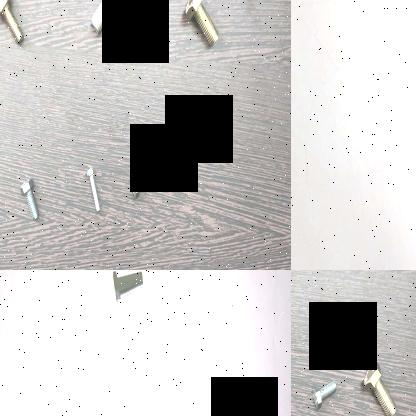Bolts: (359, 360, 399, 416), (183, 0, 222, 48), (92, 0, 128, 44), (0, 0, 27, 51), (126, 165, 158, 199), (112, 278, 150, 306), (18, 173, 40, 221), (311, 376, 339, 412), (84, 164, 104, 212)
